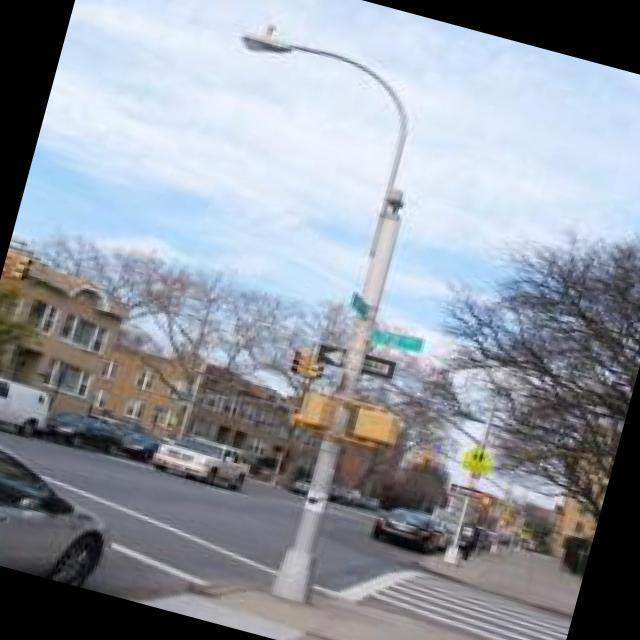off: (210, 15, 492, 236)
